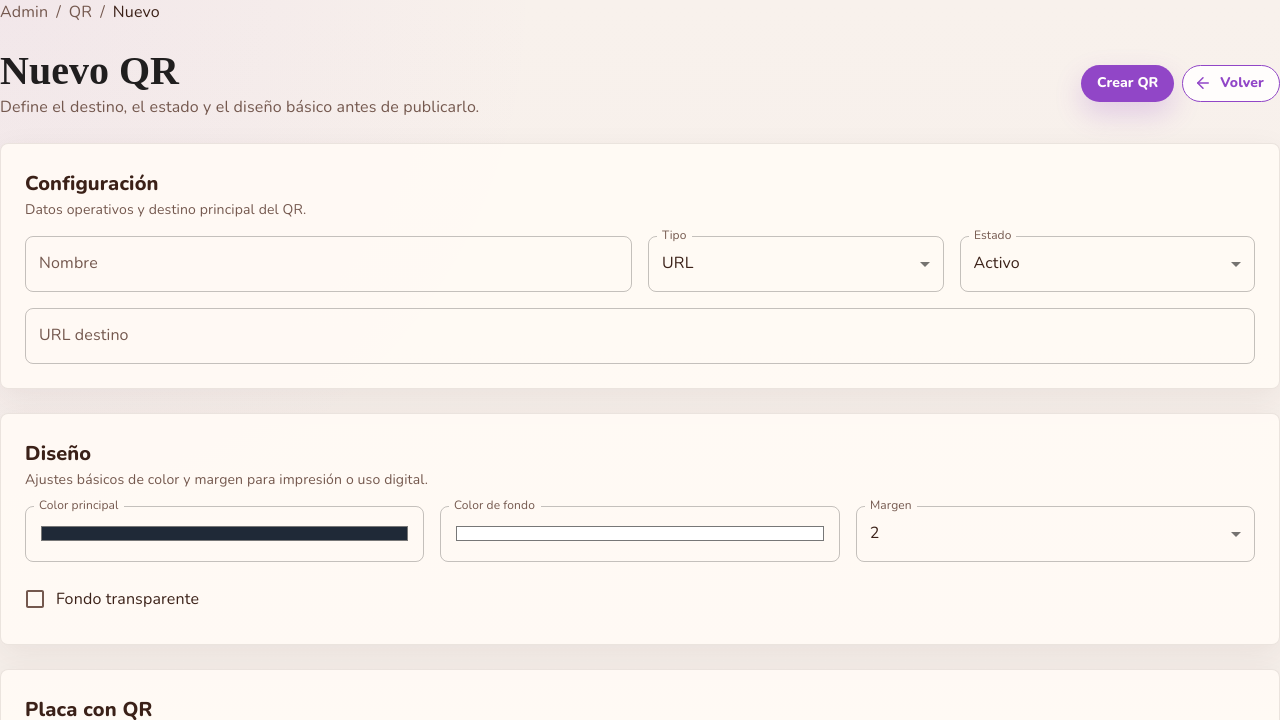
Test: AdminQRCodeFormPage › disables both save buttons while a save is in progress
Click the button "Crear QR" at coordinates (1128, 83), box [1081,65,1174,102]
(page scrolled)
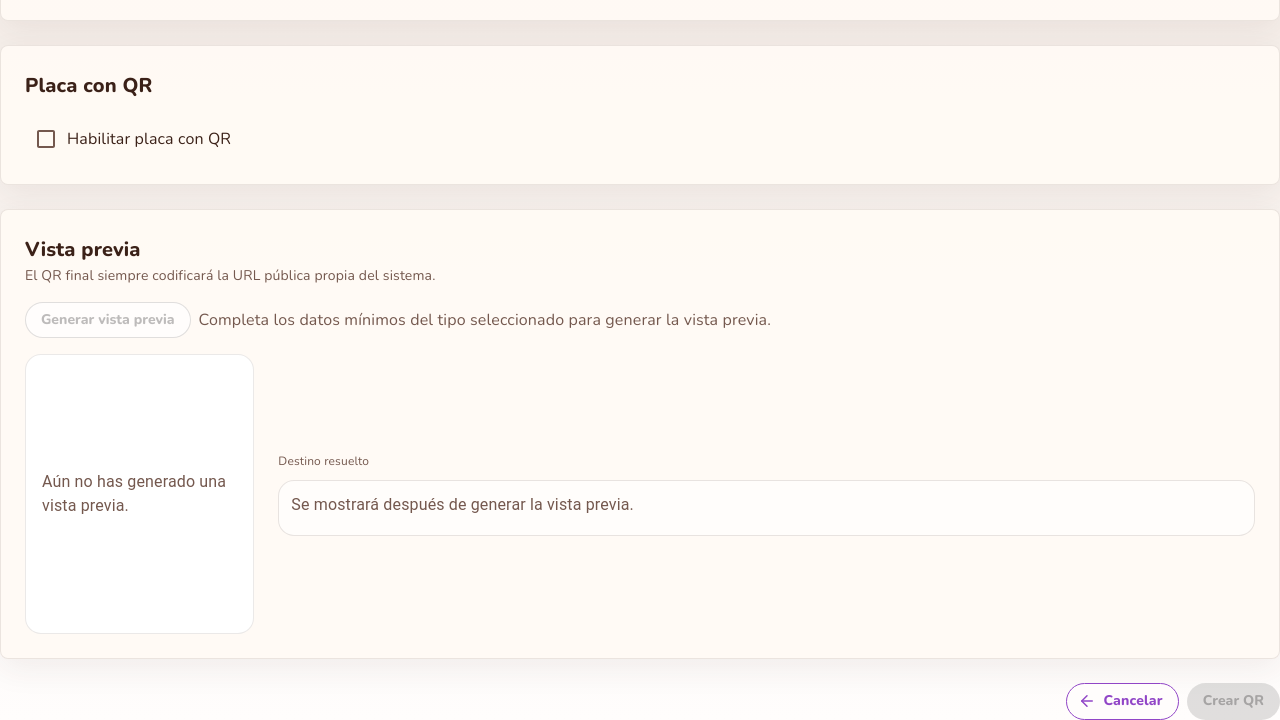
Check: the button "Crear QR" is disabled, box [1187,683,1279,719]
